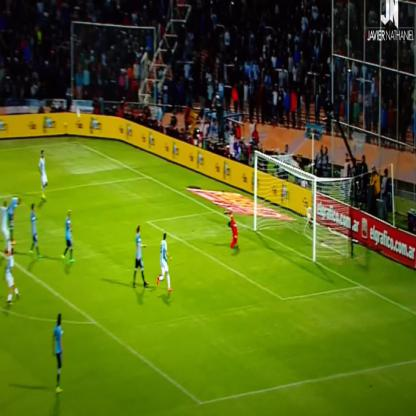goal: (7, 20, 404, 414)
